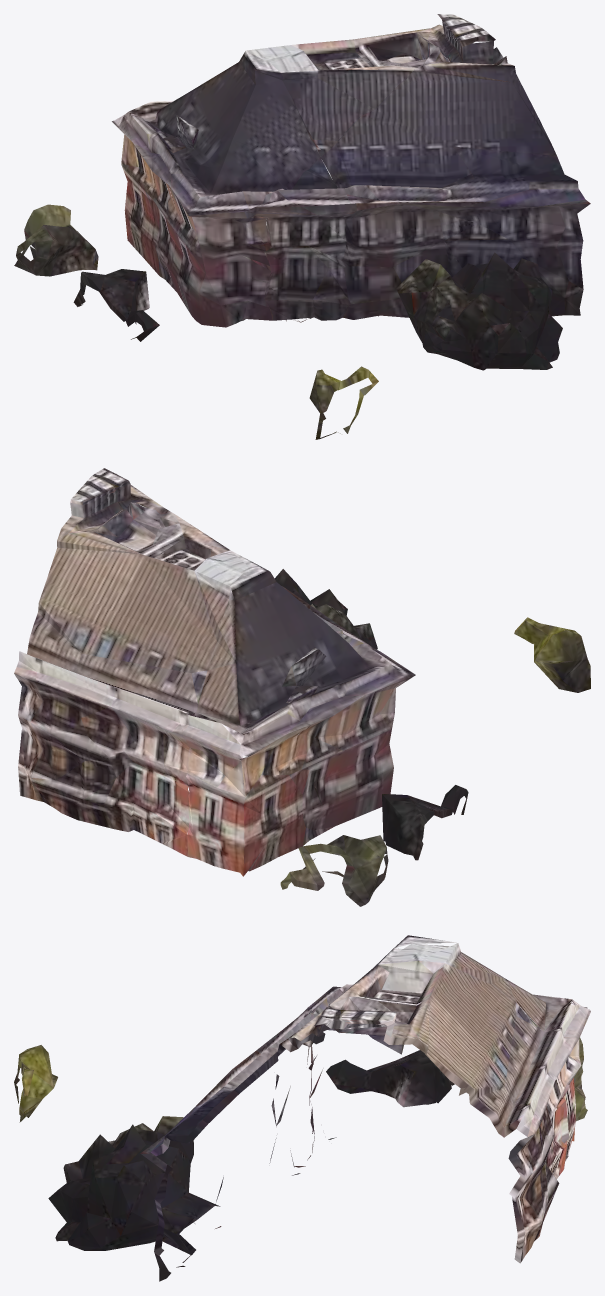
3 renders of one model, top to bottom at view 1: azimuth 30°, elevation 25°; view 2: azimuth 150°, elevation 25°; view 3: azimuth 270°, elevation 25°, orthographic. The views are drawn at different scales.
Parts seen in each view (by area): view 1: Mesh_0; view 2: Mesh_0; view 3: Mesh_0.
Boxes of the visible parts, box(x1,y1,x2,y2) form: Mesh_0: box(14, 14, 590, 439); Mesh_0: box(14, 468, 590, 906); Mesh_0: box(14, 935, 590, 1281).
Size of the model in its own units: 32.62 by 19.04 by 39.15.
Materials: 1 (1 with a texture image).
